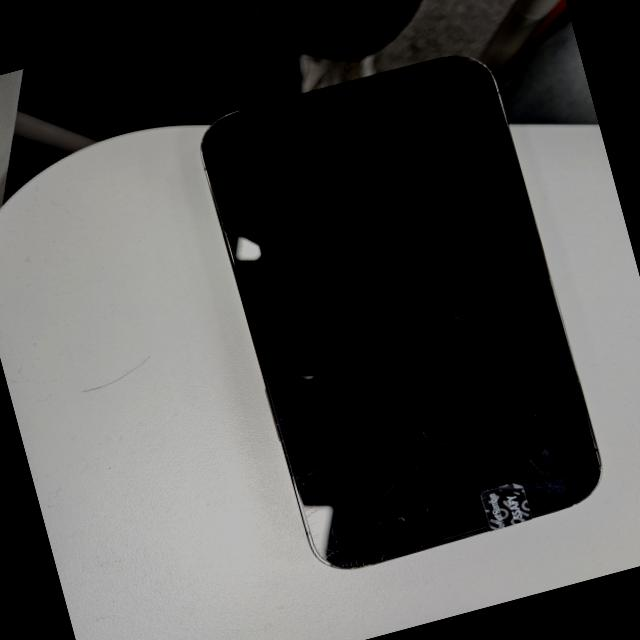phone: (193, 44, 615, 580)
removed_sticker: (478, 476, 536, 531)
